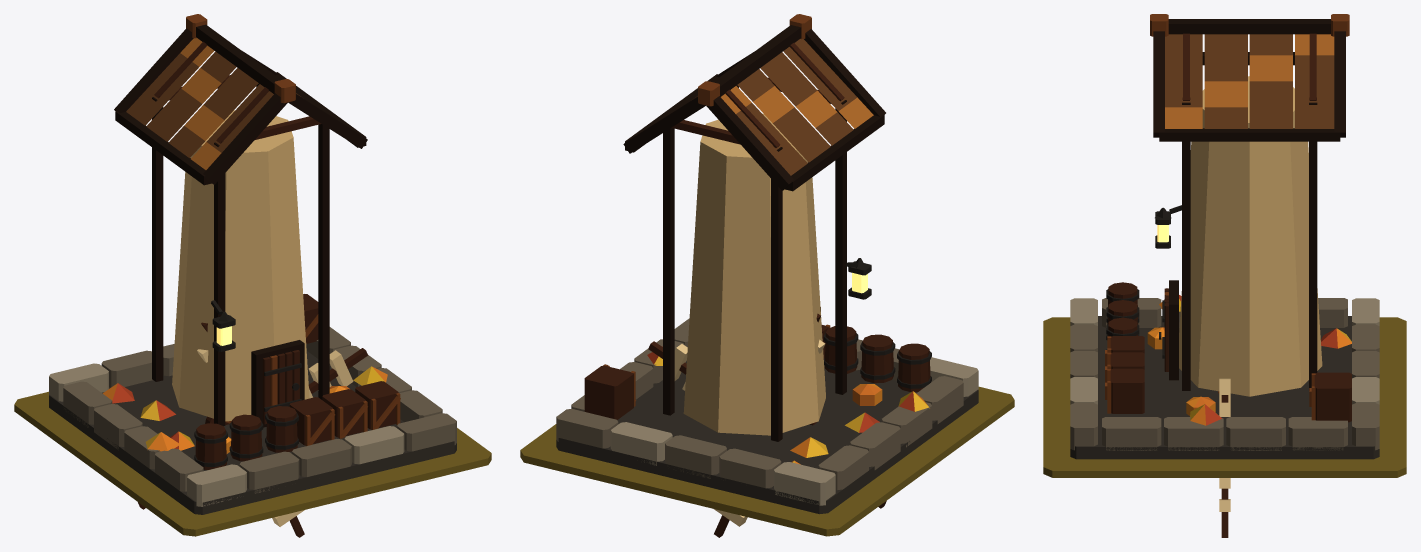
File: mill_t5.glb
The picture shows the model from 3 angles, left to right: view 1: azimuth 30°, elevation 25°; view 2: azimuth 150°, elevation 25°; view 3: azimuth 270°, elevation 25°; orthographic projection. The views are drawn at different scales.
Visible parts, largest first — view 1: MMR | mill | T05 Architecture.001, MMR | mill | Tier 05 Ground.001, MMR | mill | T05 Autumn Dressing.001, MMR | mill | T05 Wind Rotor.001; view 2: MMR | mill | T05 Architecture.001, MMR | mill | Tier 05 Ground.001, MMR | mill | T05 Autumn Dressing.001, MMR | mill | T05 Wind Rotor.001; view 3: MMR | mill | T05 Architecture.001, MMR | mill | Tier 05 Ground.001, MMR | mill | T05 Autumn Dressing.001, MMR | mill | T05 Wind Rotor.001.
Part boxes in pixels (bbox=[...]): MMR | mill | T05 Architecture.001: bbox=[49, 14, 456, 514]; MMR | mill | Tier 05 Ground.001: bbox=[14, 391, 491, 536]; MMR | mill | T05 Autumn Dressing.001: bbox=[103, 366, 387, 453]; MMR | mill | T05 Wind Rotor.001: bbox=[138, 322, 368, 537]; MMR | mill | T05 Architecture.001: bbox=[556, 14, 978, 514]; MMR | mill | Tier 05 Ground.001: bbox=[520, 386, 1014, 536]; MMR | mill | T05 Autumn Dressing.001: bbox=[647, 346, 929, 464]; MMR | mill | T05 Wind Rotor.001: bbox=[648, 313, 886, 537]; MMR | mill | T05 Architecture.001: bbox=[1070, 14, 1379, 459]; MMR | mill | Tier 05 Ground.001: bbox=[1043, 317, 1406, 477]; MMR | mill | T05 Autumn Dressing.001: bbox=[1147, 295, 1351, 425]; MMR | mill | T05 Wind Rotor.001: bbox=[1219, 378, 1230, 537].
Size of the model in its own units: 2.35 by 3.55 by 2.35.
Materials: 2 (1 with a texture image).
